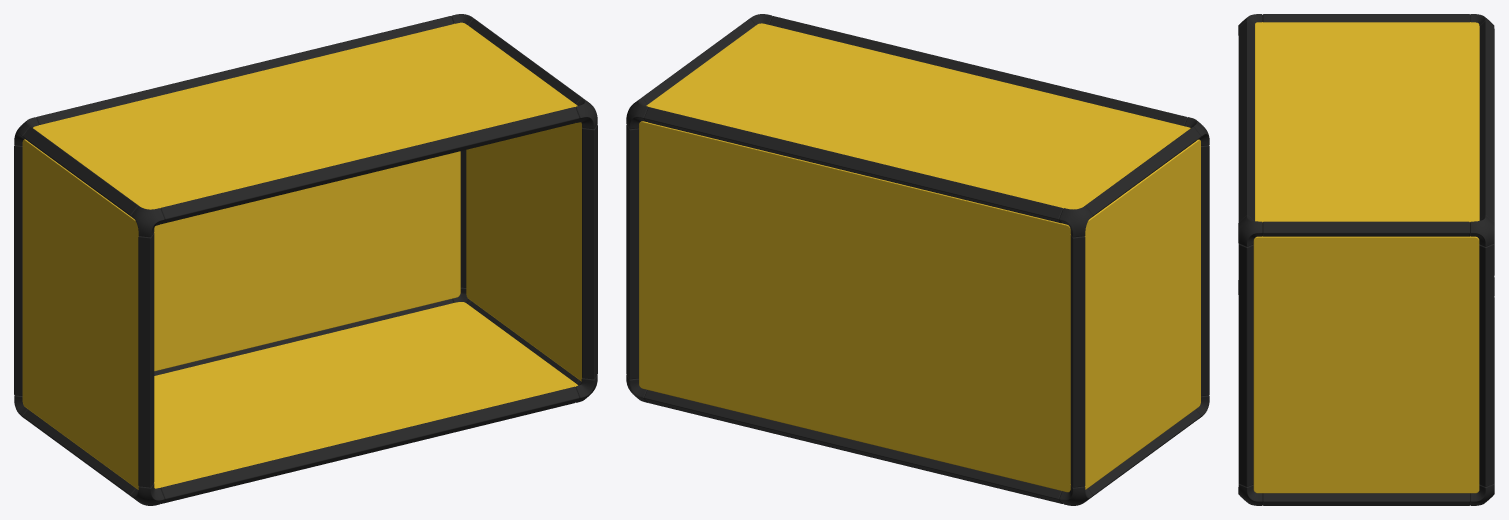
The picture shows the model from 3 angles, left to right: view 1: azimuth 30°, elevation 25°; view 2: azimuth 150°, elevation 25°; view 3: azimuth 270°, elevation 25°; orthographic projection. The views are drawn at different scales.
Visible parts, largest first — view 1: 729x329x420; view 2: 729x329x420; view 3: 729x329x420.
Boxes of the visible parts, x1,y1,x2,y2 form: 729x329x420: [14, 14, 597, 505]; 729x329x420: [626, 14, 1209, 505]; 729x329x420: [1238, 14, 1494, 505].
Bounding box in the file's own units: 0.8067 × 0.4976 × 0.4063.
